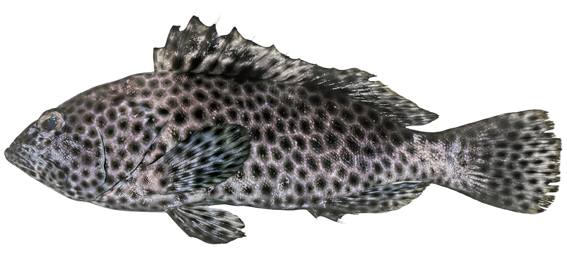fish: (4, 9, 563, 245)
